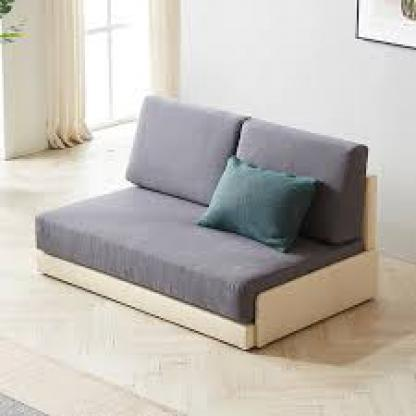sofa: (30, 94, 400, 348)
